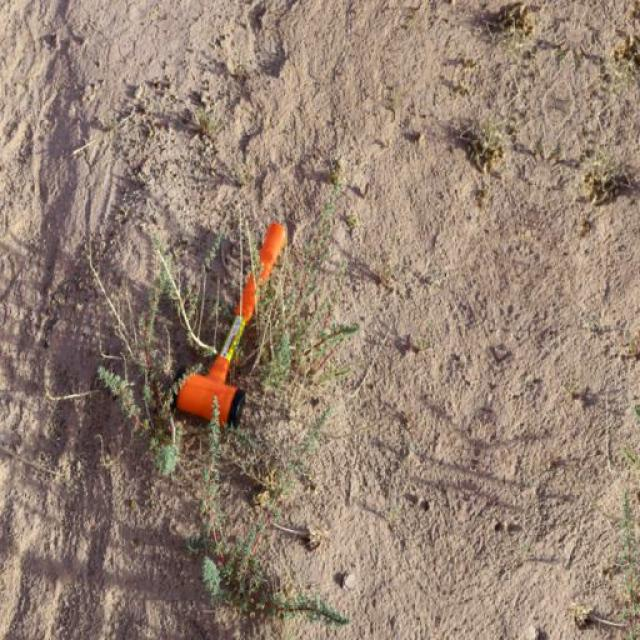mallet: (172, 220, 288, 429)
